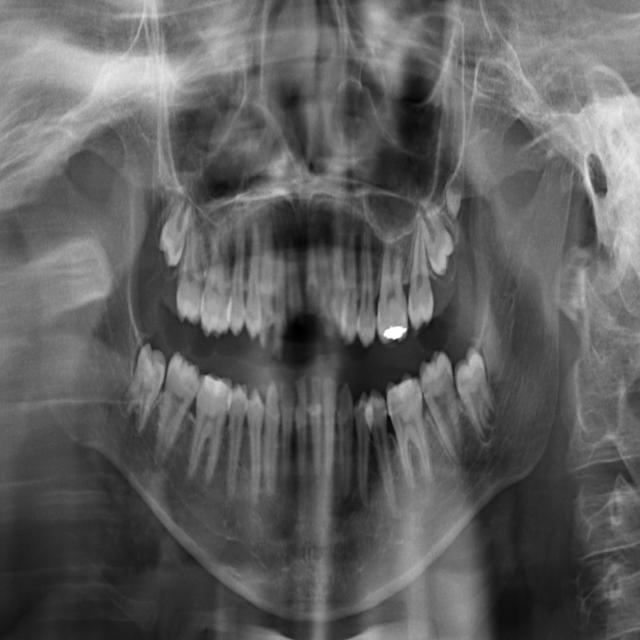AmalgamRestoration: (383, 316, 408, 346)
CompositeResinRestoration: (204, 376, 228, 403)
DentalCaries: (276, 312, 291, 353), (261, 315, 275, 351), (293, 380, 302, 418), (310, 382, 318, 416), (377, 404, 389, 424), (421, 378, 430, 402)
RetainedRoots: (324, 243, 345, 322), (305, 240, 322, 322), (288, 240, 304, 324)
